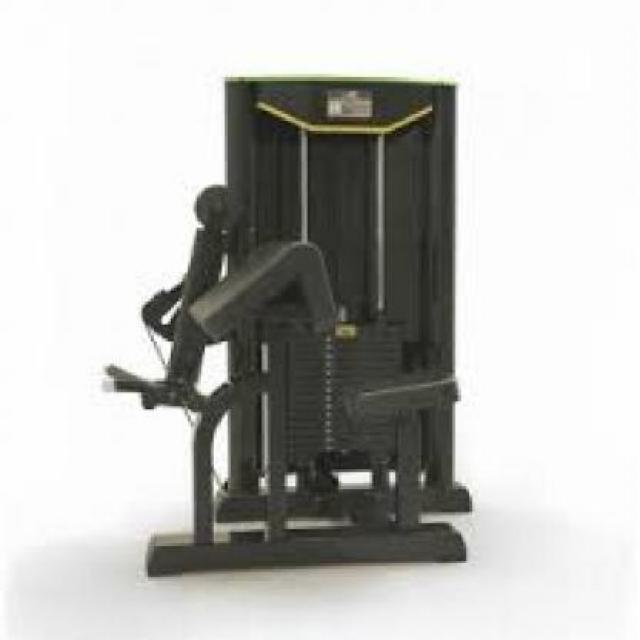arm curl machine: (100, 74, 472, 563)
